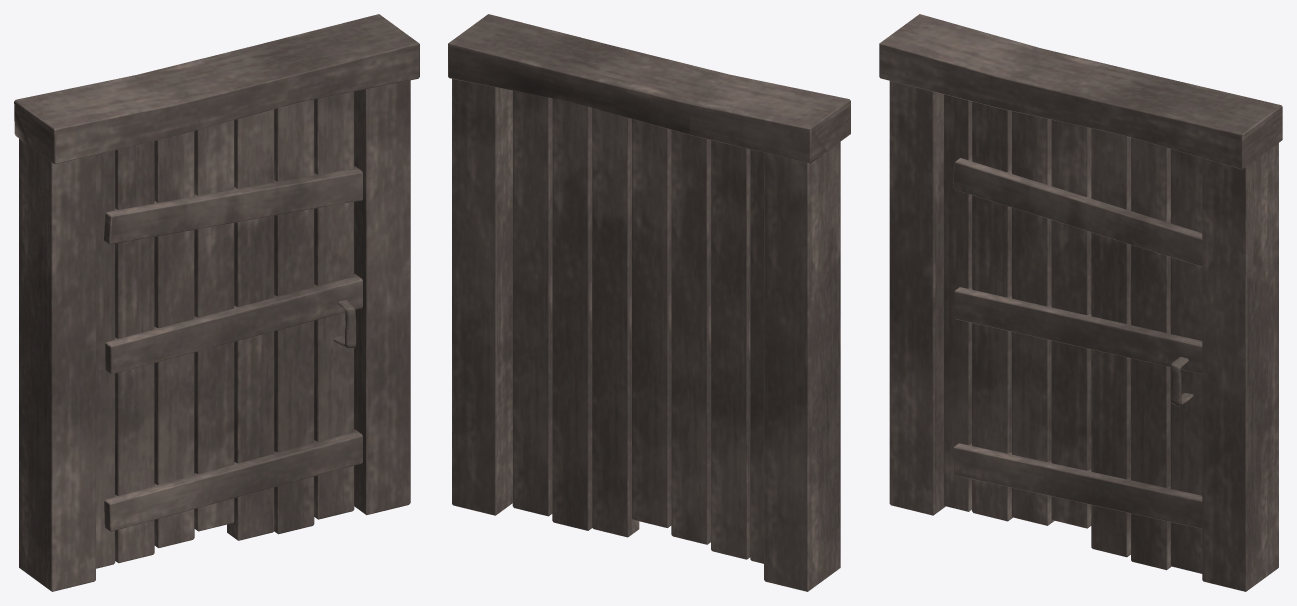
File: mobile.glb
The picture shows the model from 3 angles, left to right: view 1: azimuth 30°, elevation 25°; view 2: azimuth 150°, elevation 25°; view 3: azimuth 330°, elevation 25°; orthographic projection.
Visible parts, largest first — view 1: SM_door_01; view 2: SM_door_01; view 3: SM_door_01.
Boxes of the visible parts, x1=… form: SM_door_01: x1=14, y1=14, x2=419, y2=591; SM_door_01: x1=448, y1=14, x2=850, y2=591; SM_door_01: x1=879, y1=14, x2=1282, y2=591.
Bounding box in the file's own units: 2.02 × 2.5 × 0.3911.
1 material, 1 textured.
